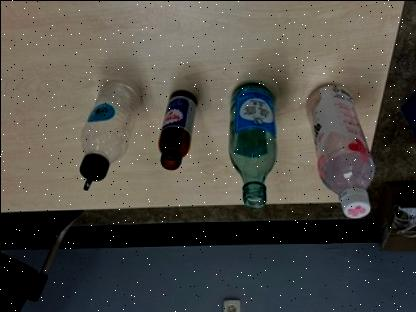Others: (224, 79, 278, 209), (154, 85, 200, 172)
Plastic Bottle: (302, 75, 376, 220), (72, 78, 142, 192)
